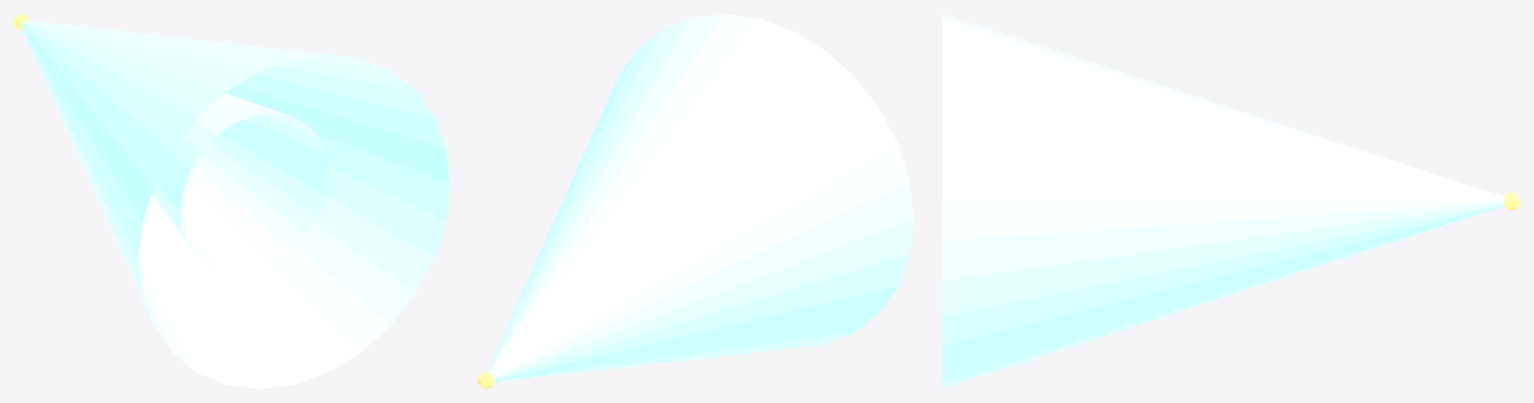
Rendered from fx_headlight_beam.glb.
3 views of the same model, side by side, from view 1: azimuth 30°, elevation 25°; view 2: azimuth 150°, elevation 25°; view 3: azimuth 270°, elevation 25° (orthographic). The views are drawn at different scales.
Visible parts, largest first — view 1: fx_headlight_beam_beam; view 2: fx_headlight_beam_beam; view 3: fx_headlight_beam_beam.
Boxes of the visible parts, x1,y1,x2,y2 form: fx_headlight_beam_beam: (21,20,449,388); fx_headlight_beam_beam: (487,14,913,381); fx_headlight_beam_beam: (942,14,1504,388).
Bounding box in the file's own units: 9.2 × 9.2 × 14.16.
